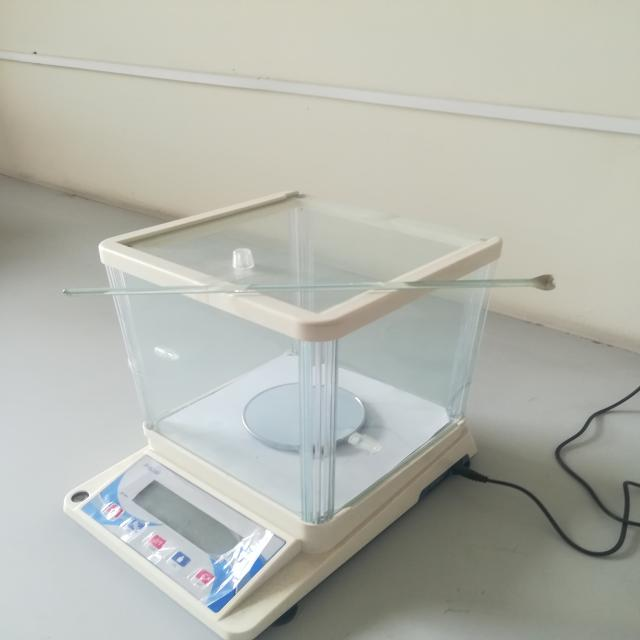Glass_Rod: (50, 252, 564, 327)
